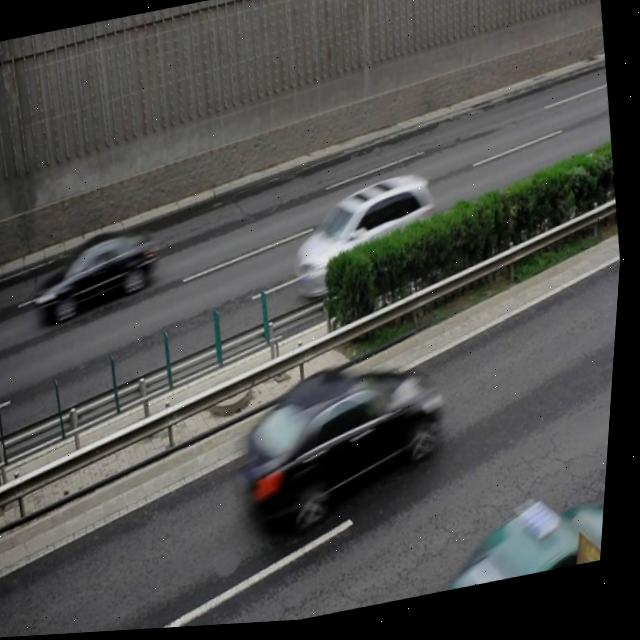car: (232, 357, 458, 539), (287, 173, 446, 300), (434, 495, 612, 599), (31, 231, 161, 328)
